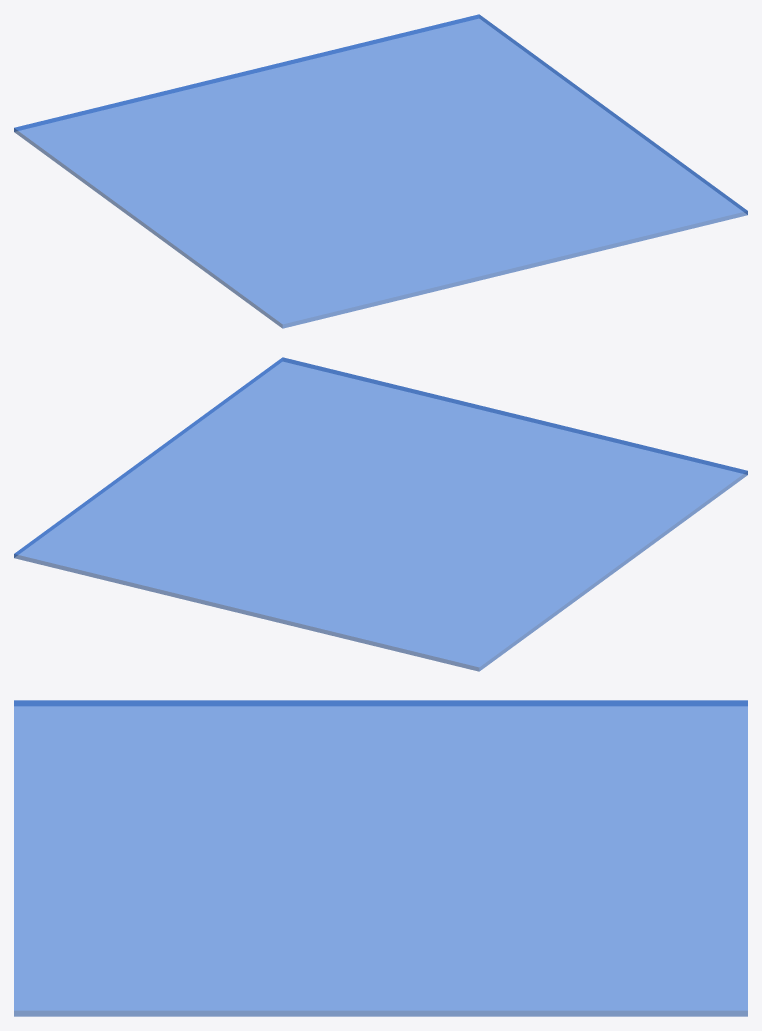
The model's file is water.glb.
The picture shows the model from 3 angles, top to bottom: view 1: azimuth 30°, elevation 25°; view 2: azimuth 150°, elevation 25°; view 3: azimuth 270°, elevation 25°; orthographic projection. The views are drawn at different scales.
Visible parts, largest first — view 1: Cube.001; view 2: Cube.001; view 3: Cube.001.
Boxes of the visible parts, <box> form: Cube.001: <box>14,14,747,328</box>; Cube.001: <box>14,357,747,671</box>; Cube.001: <box>14,700,747,1016</box>.
Size of the model in its own units: 9.68 by 0.0854 by 9.68.
